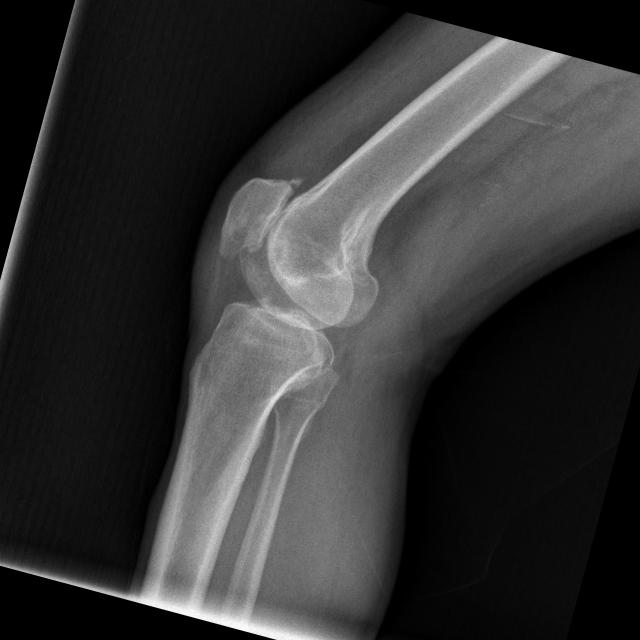Knee: (182, 162, 402, 408)
